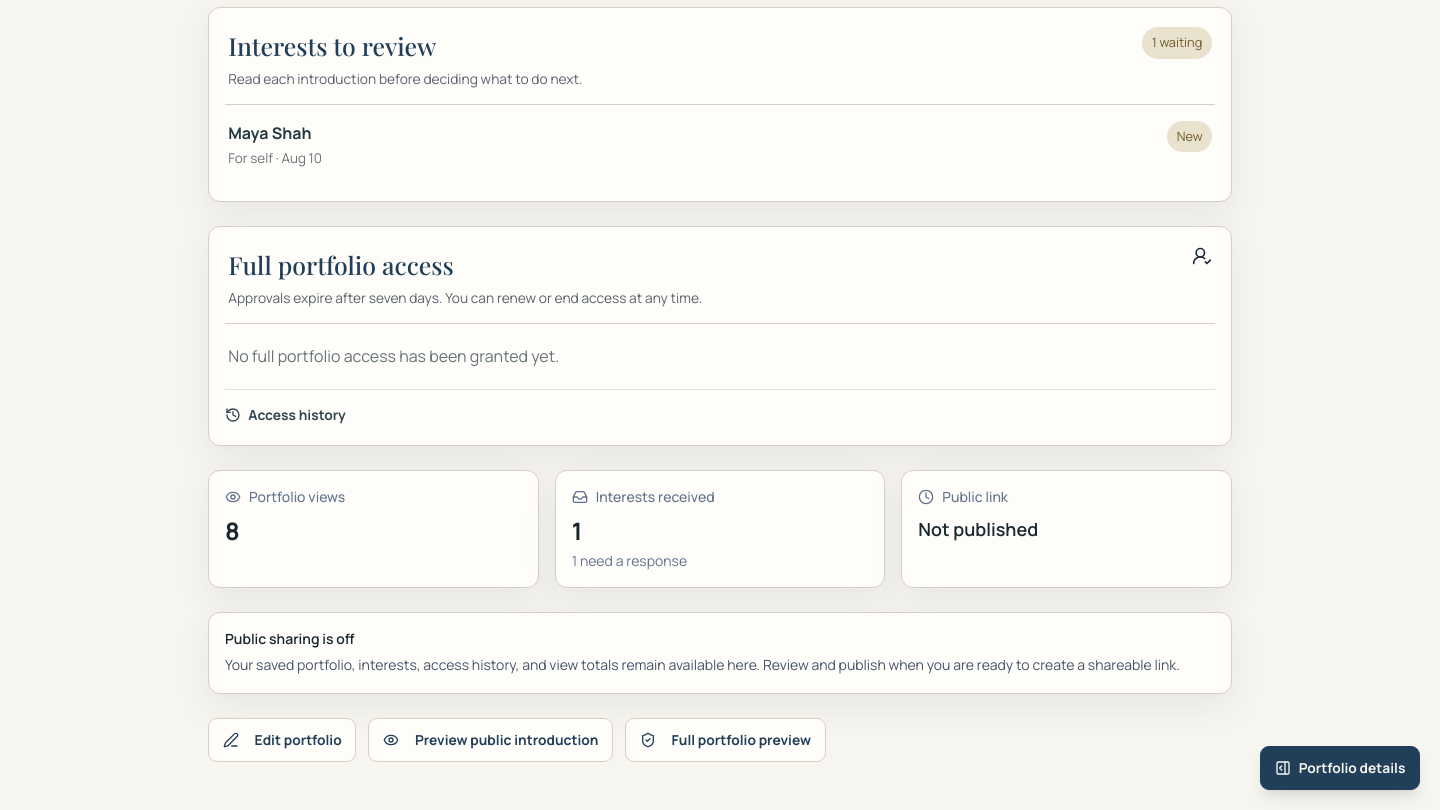
Test: dashboard client › keeps interests, access history, and stats visible while unpublished
(page scrolled)
Expected: the heading "Interests to review" is shown, [228,29,436,62]
Expected: the text "Maya Shah" is shown, [228,121,322,145]
Click the heading "Access history": {"x": 285, "y": 415} [225,405,346,425]
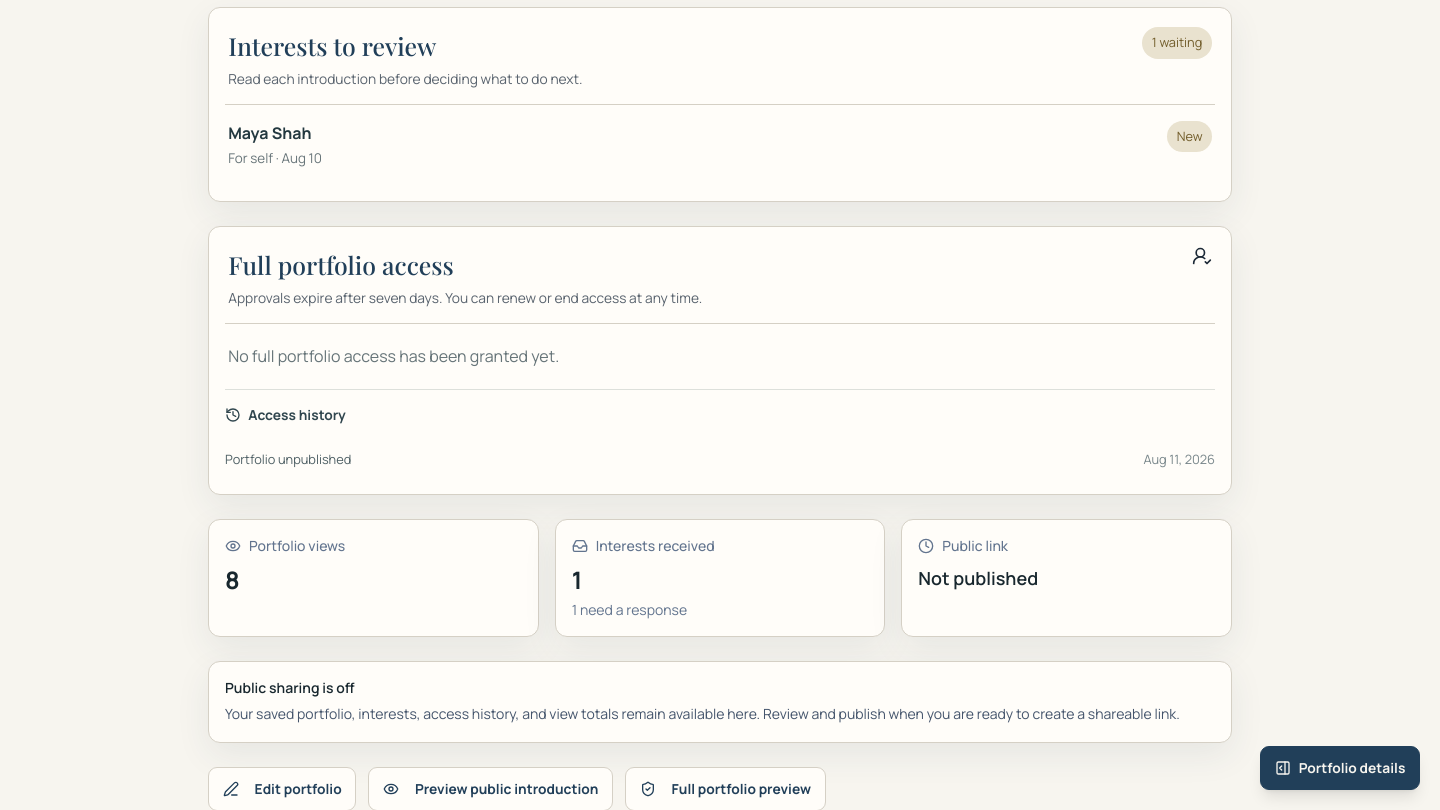
Expected: the text "8" is shown, [225,563,240,596]
Now the text "Portfolio unpublished" is shown, box [225,450,351,469]
